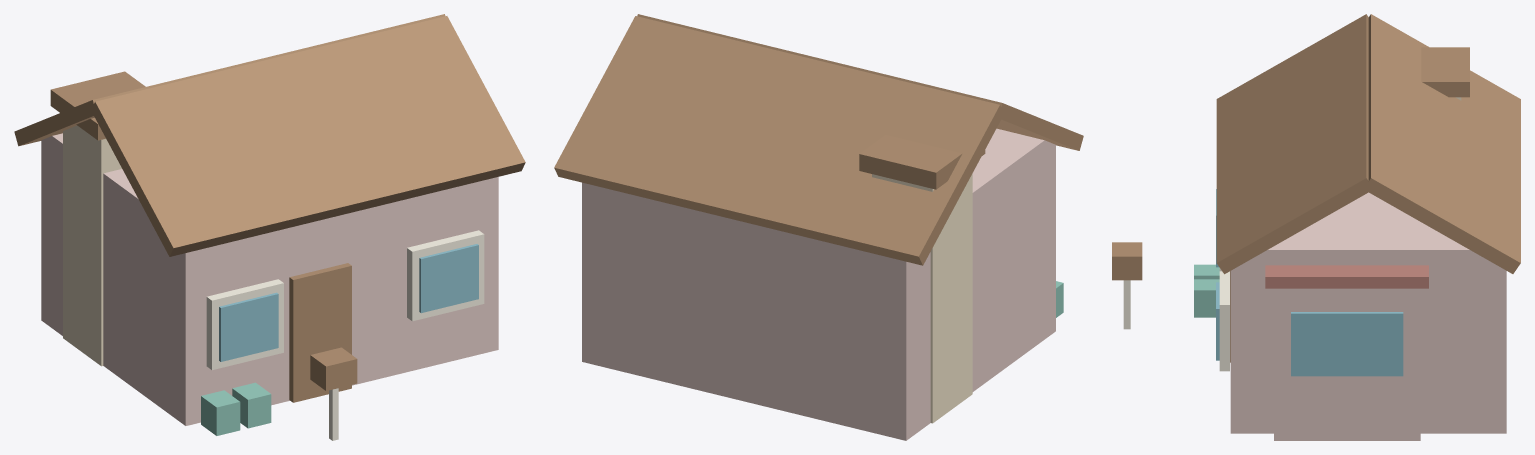
File: home-13.glb
3 views of the same model, side by side, from view 1: azimuth 30°, elevation 25°; view 2: azimuth 150°, elevation 25°; view 3: azimuth 270°, elevation 25° (orthographic). The views are drawn at different scales.
Visible parts, largest first — view 1: chimney crown, individual walls.010, tall stone chimney, bay glass, letterbox post.010, flower planter.010; view 2: individual walls.010, chimney crown, tall stone chimney; view 3: chimney crown, individual walls.010, bay glass, bay cap, letterbox post.010, flower planter.010.
Part boxes in pixels (left/top/right/bottom): chimney crown: left=14, top=14, right=525, bottom=402; individual walls.010: left=41, top=133, right=498, bottom=425; tall stone chimney: left=63, top=125, right=121, bottom=366; bay glass: left=219, top=244, right=478, bottom=361; letterbox post.010: left=206, top=230, right=484, bottom=440; flower planter.010: left=201, top=382, right=271, bottom=435; individual walls.010: left=582, top=128, right=1055, bottom=440; chimney crown: left=554, top=14, right=1083, bottom=265; tall stone chimney: left=872, top=173, right=972, bottom=423; chimney crown: left=1112, top=14, right=1520, bottom=362; individual walls.010: left=1230, top=192, right=1506, bottom=440; bay glass: left=1216, top=189, right=1403, bottom=376; bay cap: left=1265, top=265, right=1428, bottom=288; letterbox post.010: left=1123, top=268, right=1229, bottom=371; flower planter.010: left=1194, top=264, right=1219, bottom=317.
Bounding box in the file's own units: 4.57 × 3.39 × 4.74.
